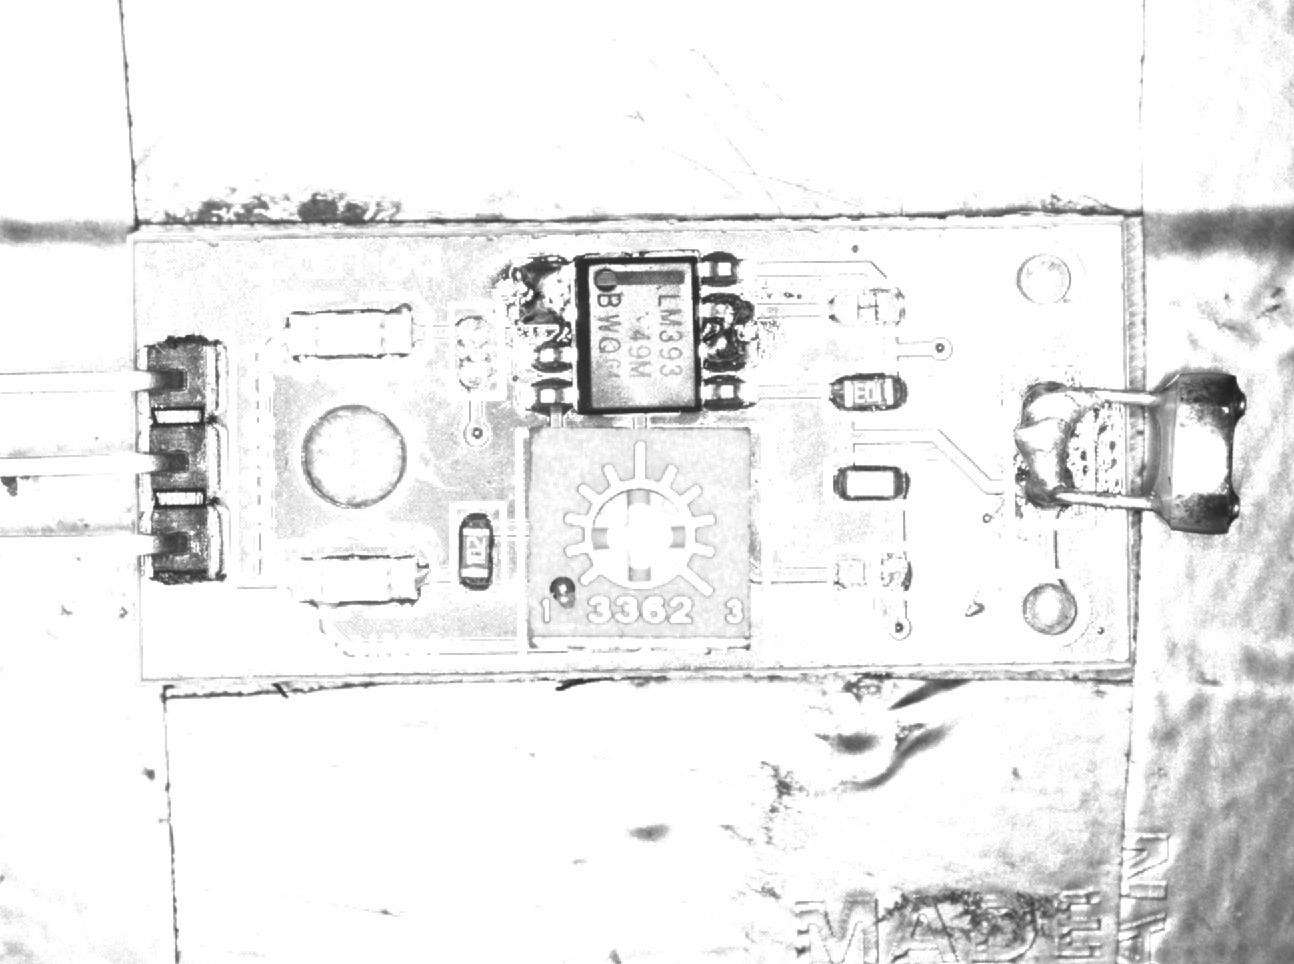bridge: (996, 365, 1100, 523), (513, 255, 578, 333), (698, 298, 755, 374)
miss: (819, 544, 919, 602), (449, 304, 508, 399), (820, 285, 910, 331)
ok: (449, 499, 506, 599), (825, 365, 913, 419), (821, 460, 916, 504)
